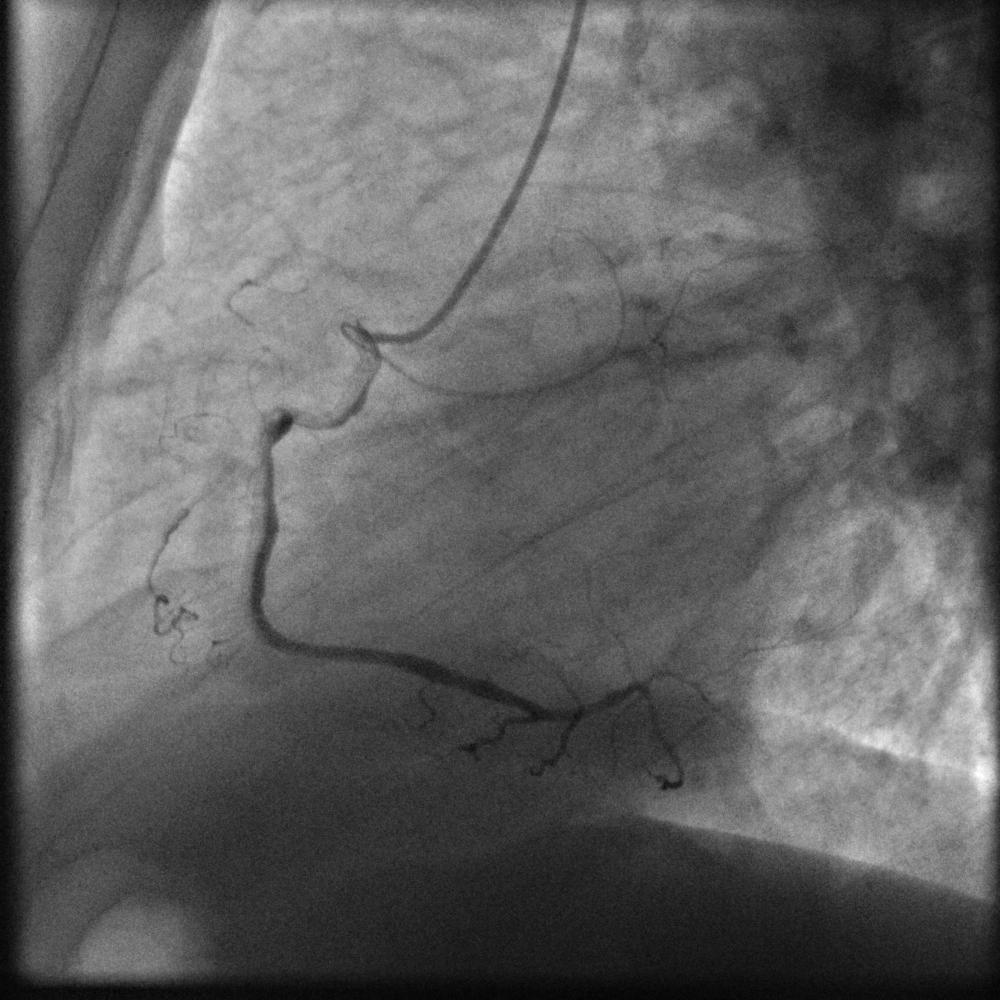Stenosis: (285, 404, 317, 432)
